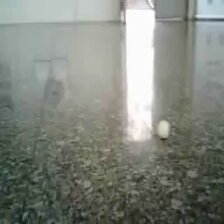w: (156, 119, 172, 141)
